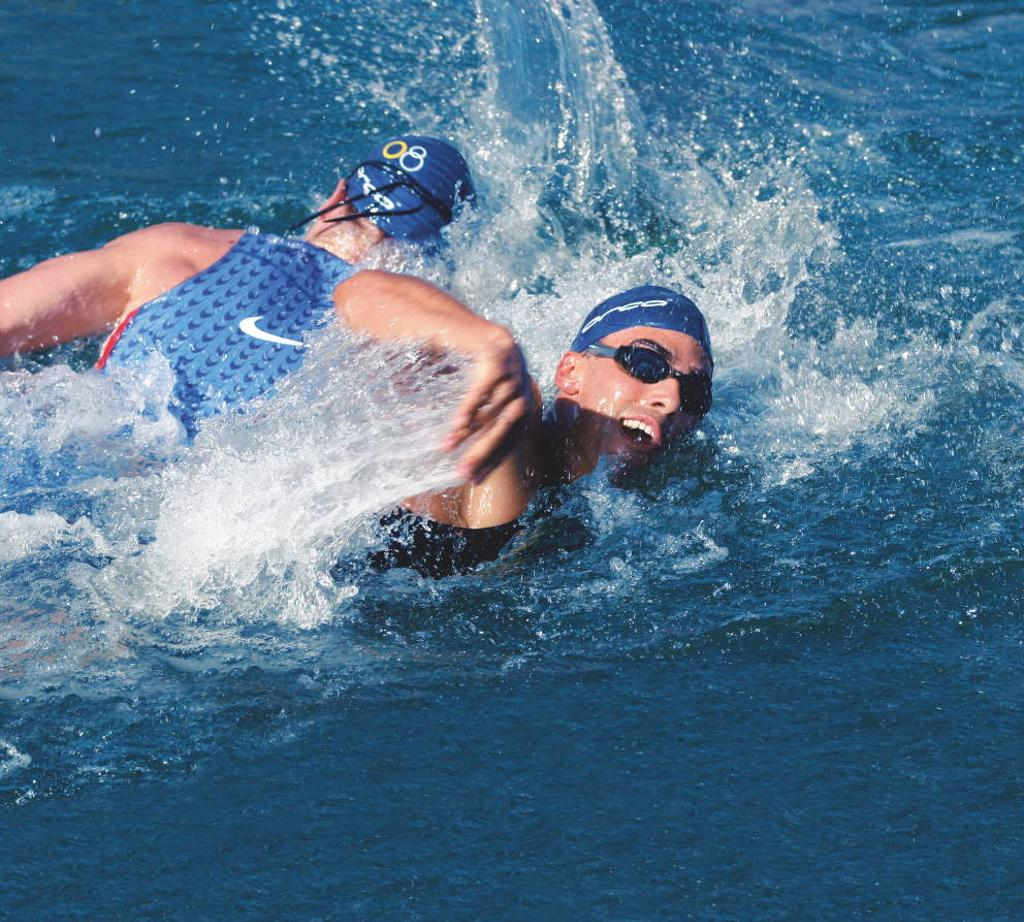face: (582, 318, 710, 484)
